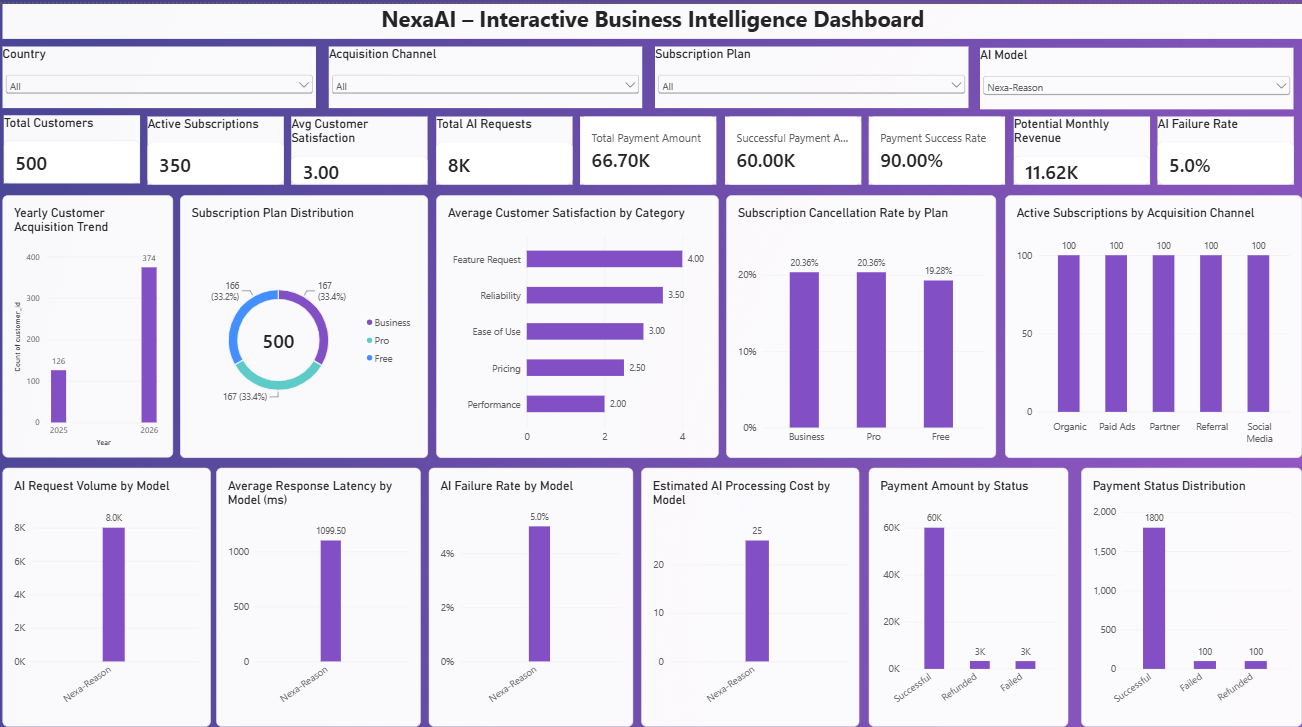

What the dashboard file says about the page in this screenshot:
{"tool":"powerbi","page":{"name":"Interactive Dashboard","canvas":[1920,1080],"ordinal":4},"visuals":[{"type":"textbox","box":[11.4,0,1908.6,51.4],"z":0},{"type":"slicer","title":"Country","fields":{"Values":["customers.country"]},"box":[11.4,62.9,460,90],"z":1000},{"type":"slicer","title":"Acquisition Channel","fields":{"Values":["customers.acquisition_channel"]},"box":[489.5,62.9,460,90],"z":2000},{"type":"slicer","title":"Subscription Plan","fields":{"Values":["subscriptions.plan_name"]},"box":[967.6,62.9,460,90],"z":3000},{"type":"slicer","title":"AI Model","fields":{"Values":["ai_usage_logs.model_name"]},"box":[1445.7,64.3,460,90],"z":4000},{"type":"cardVisual","title":"Total Customers","fields":{"Data":["CountNonNull(customers.customer_id)"]},"box":[12.2,163.3,200,100],"z":5000},{"type":"cardVisual","title":"Active Subscriptions","fields":{"Data":["subscriptions.Active Subscriptions"]},"box":[223.9,164.3,200,100],"z":6000},{"type":"cardVisual","title":"Potential Monthly Revenue","fields":{"Data":["subscriptions.Potential Monthly Revenue"]},"box":[1494,164.3,200,100],"z":7000},{"type":"cardVisual","title":"Total AI Requests","fields":{"Data":["ai_usage_logs.Total AI Requests"]},"box":[647.3,164.3,200,100],"z":8000},{"type":"cardVisual","title":"AI Failure Rate","fields":{"Data":["ai_usage_logs.AI Failure Rate"]},"box":[1705.7,164.3,200,100],"z":9000},{"type":"cardVisual","title":"Avg Customer Satisfaction","fields":{"Data":["customer_feedback.Average Satisfaction"]},"box":[435.6,164.3,200,100],"z":10000},{"type":"clusteredColumnChart","title":"Yearly Customer Acquisition Trend","fields":{"Category":["customers.signup_date.Variation.Date Hierarchy.Year","customers.signup_date.Variation.Date Hierarchy.Month"],"Y":["Count(customer_feedback.customer_id)"]},"box":[11.4,280,250,385],"z":11000},{"type":"donutChart","title":"Subscription Plan Distribution","fields":{"Category":["subscriptions.plan_name"],"Y":["Count(subscriptions.subscription_id)"]},"box":[271.5,280.6,364.3,385.7],"z":12000},{"type":"clusteredColumnChart","title":"AI Request Volume by Model","fields":{"Category":["ai_usage_logs.model_name"],"Y":["Count(ai_usage_logs.request_id)"]},"box":[11.4,680,305.7,380],"z":13000},{"type":"clusteredColumnChart","title":"Average Response Latency by Model (ms)","fields":{"Category":["ai_usage_logs.model_name"],"Y":["Avg(ai_usage_logs.latency_ms)"]},"box":[324.3,680,300,380],"z":14000},{"type":"clusteredColumnChart","title":"AI Failure Rate by Model","fields":{"Category":["ai_usage_logs.model_name"],"Y":["ai_usage_logs.Model Failure Rate"]},"box":[635.7,680,300,380],"z":15000},{"type":"clusteredColumnChart","title":"Estimated AI Processing Cost by Model","fields":{"Category":["ai_usage_logs.model_name"],"Y":["ai_usage_logs.Estimated AI Cost"]},"box":[948.6,680,320,380],"z":16000},{"type":"clusteredBarChart","title":"Average Customer Satisfaction by Category","fields":{"Category":["customer_feedback.feedback_category"],"Y":["Avg(customer_feedback.satisfaction_score)"]},"box":[647.5,280.6,414.3,385.7],"z":17000},{"type":"clusteredColumnChart","title":"Subscription Cancellation Rate by Plan","fields":{"Category":["subscriptions.plan_name"],"Y":["subscriptions.Cancellation Rate"]},"box":[1073,280.6,395.7,385.7],"z":18000},{"type":"clusteredColumnChart","title":"Active Subscriptions by Acquisition Channel","fields":{"Category":["customers.acquisition_channel"],"Y":["Count(subscriptions.subscription_id)"]},"box":[1482.8,280,435.7,385.7],"z":19000},{"type":"clusteredColumnChart","title":"Payment Status Distribution","fields":{"Category":["payments.payment_status"],"Y":["Count(payments.payment_id)"]},"box":[1594.3,680,324.3,380],"z":20000},{"type":"cardVisual","title":"Total Payment Amount","fields":{"Data":["payments.Total Payment Amount"]},"box":[859,164.3,200,100],"z":21000},{"type":"cardVisual","fields":{"Data":["payments.Successful Payment Amount"]},"box":[1070.7,164.3,200,100],"z":22000},{"type":"cardVisual","fields":{"Data":["payments.Payment Success Rate"]},"box":[1282.3,164.3,200,100],"z":23000},{"type":"clusteredColumnChart","title":"Payment Amount by Status","fields":{"Category":["payments.payment_status"],"Y":["Sum(payments.amount)"]},"box":[1281.4,680,292.9,380],"z":24000}]}

Visuals, with their boxes in screenshot pixels (x1, y1, x2, y2), scaled from the page's 1920x1080 canvas onto the 1302x727 screenshot:
textbox: (left=8, top=0, right=1301, bottom=35)
"Country" slicer: (left=8, top=42, right=320, bottom=103)
"Acquisition Channel" slicer: (left=332, top=42, right=644, bottom=103)
"Subscription Plan" slicer: (left=656, top=42, right=968, bottom=103)
"AI Model" slicer: (left=980, top=43, right=1292, bottom=104)
"Total Customers" cardVisual: (left=8, top=110, right=144, bottom=177)
"Active Subscriptions" cardVisual: (left=152, top=111, right=287, bottom=178)
"Potential Monthly Revenue" cardVisual: (left=1013, top=111, right=1149, bottom=178)
"Total AI Requests" cardVisual: (left=439, top=111, right=575, bottom=178)
"AI Failure Rate" cardVisual: (left=1157, top=111, right=1292, bottom=178)
"Avg Customer Satisfaction" cardVisual: (left=295, top=111, right=431, bottom=178)
"Yearly Customer Acquisition Trend" clusteredColumnChart: (left=8, top=188, right=177, bottom=448)
"Subscription Plan Distribution" donutChart: (left=184, top=189, right=431, bottom=449)
"AI Request Volume by Model" clusteredColumnChart: (left=8, top=458, right=215, bottom=714)
"Average Response Latency by Model (ms)" clusteredColumnChart: (left=220, top=458, right=423, bottom=714)
"AI Failure Rate by Model" clusteredColumnChart: (left=431, top=458, right=635, bottom=714)
"Estimated AI Processing Cost by Model" clusteredColumnChart: (left=643, top=458, right=860, bottom=714)
"Average Customer Satisfaction by Category" clusteredBarChart: (left=439, top=189, right=720, bottom=449)
"Subscription Cancellation Rate by Plan" clusteredColumnChart: (left=728, top=189, right=996, bottom=449)
"Active Subscriptions by Acquisition Channel" clusteredColumnChart: (left=1006, top=188, right=1301, bottom=448)
"Payment Status Distribution" clusteredColumnChart: (left=1081, top=458, right=1301, bottom=714)
"Total Payment Amount" cardVisual: (left=583, top=111, right=718, bottom=178)
cardVisual - payments.Successful Payment Amount: (left=726, top=111, right=862, bottom=178)
cardVisual - payments.Payment Success Rate: (left=870, top=111, right=1005, bottom=178)
"Payment Amount by Status" clusteredColumnChart: (left=869, top=458, right=1068, bottom=714)
